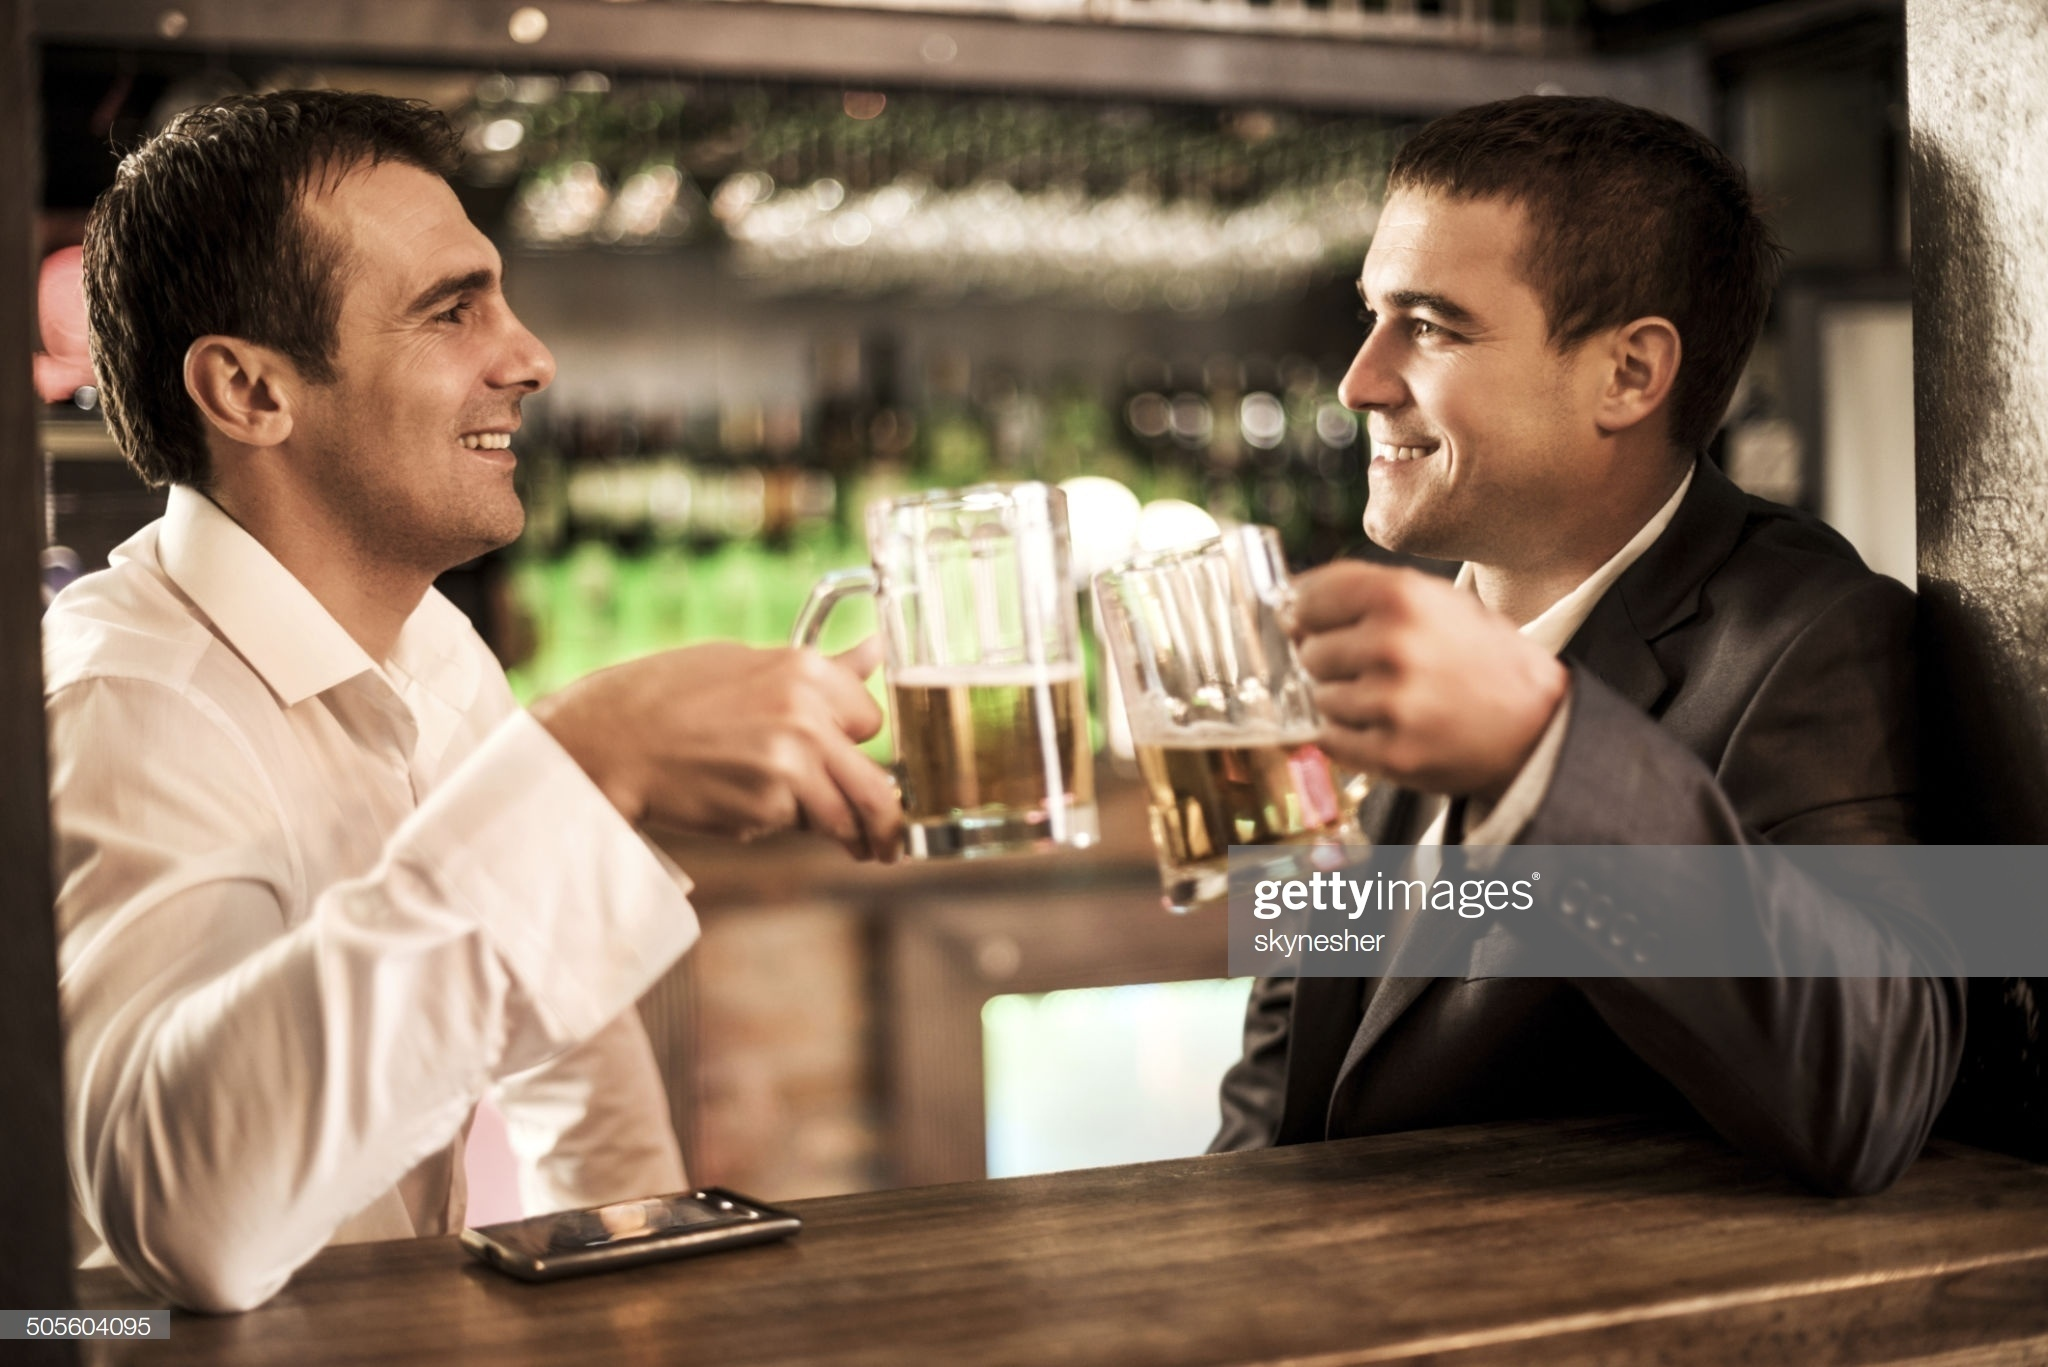whiskey: (1119, 534, 1327, 912), (865, 476, 1071, 854)
